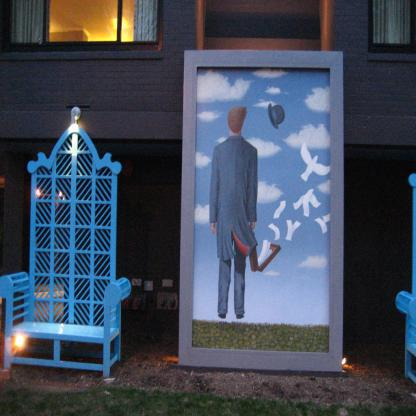Picture-frame: (179, 50, 348, 379)
